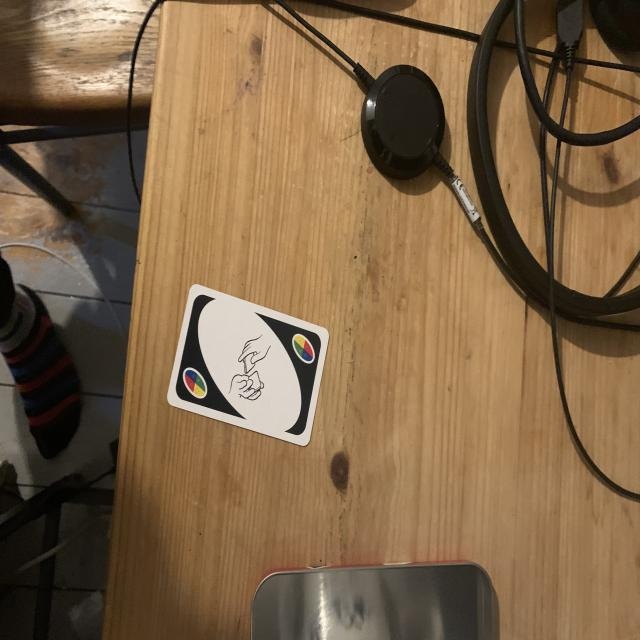lcolor-40: (176, 365, 210, 405)
